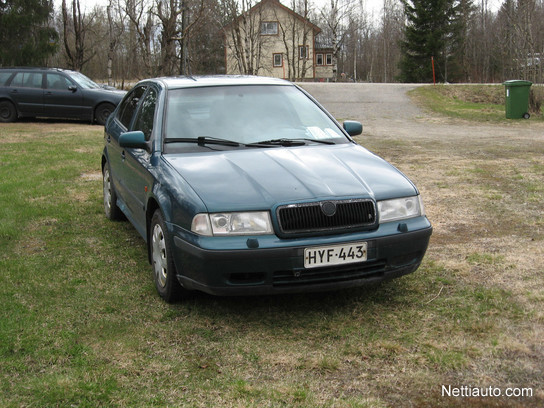car: (101, 74, 435, 301), (1, 68, 133, 120)
